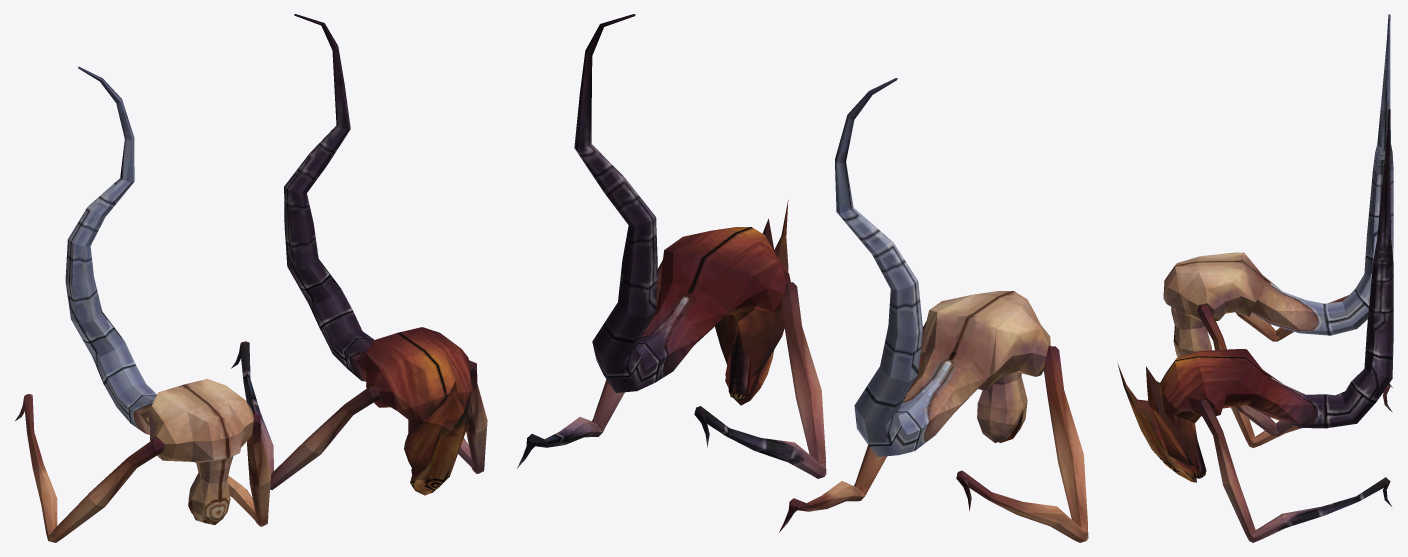
The model's file is Creeper.obj.
3 renders of one model, left to right at view 1: azimuth 30°, elevation 25°; view 2: azimuth 150°, elevation 25°; view 3: azimuth 270°, elevation 25°, orthographic. The views are drawn at different scales.
Parts seen in each view (by area): view 1: Mesh_0517, Mesh_0519; view 2: Mesh_0517, Mesh_0519; view 3: Mesh_0517, Mesh_0519.
Boxes of the visible parts, <box> form: Mesh_0517: <box>231,14,487,495</box>; Mesh_0519: <box>15,66,271,542</box>; Mesh_0517: <box>517,14,826,478</box>; Mesh_0519: <box>779,78,1088,542</box>; Mesh_0517: <box>1117,109,1393,542</box>; Mesh_0519: <box>1163,14,1393,447</box>.
Size of the model in its own units: 782 by 761 by 494.
